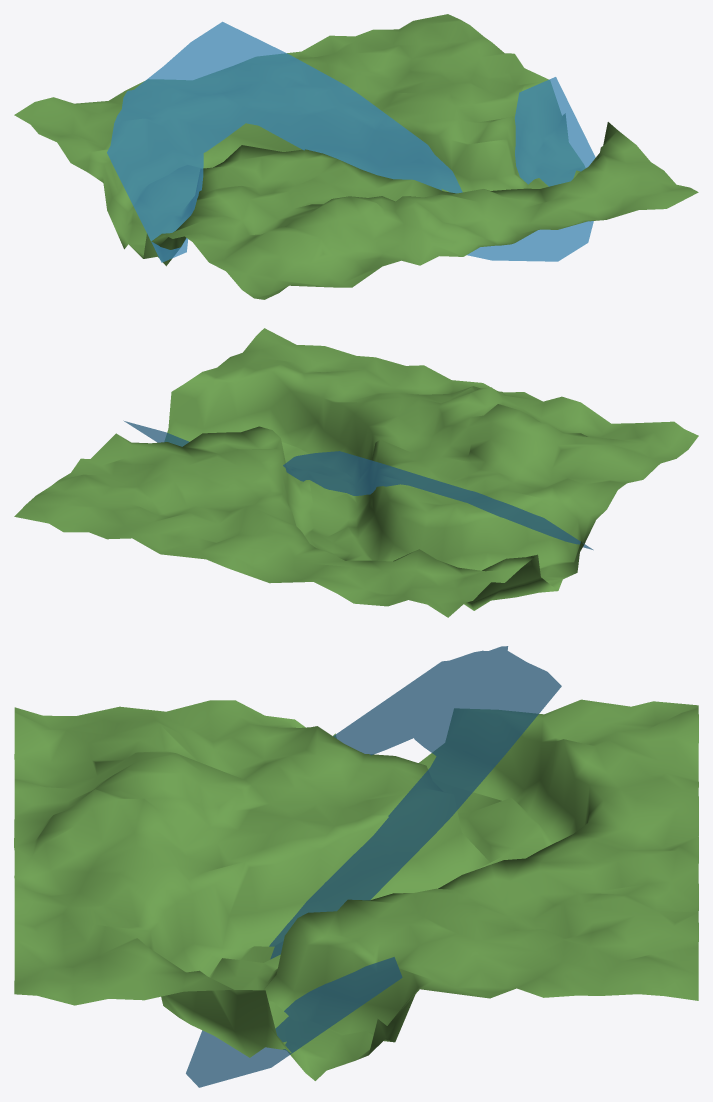
File: zone_one.fbx
3 renders of one model, top to bottom at view 1: azimuth 30°, elevation 25°; view 2: azimuth 150°, elevation 25°; view 3: azimuth 270°, elevation 25°, orthographic. The views are drawn at different scales.
Visible parts, largest first — view 1: Object, RiverWater; view 2: Object, RiverWater; view 3: Object, RiverWater.
Boxes of the visible parts, <box> form: Object: <box>14,14,698,299</box>; RiverWater: <box>107,21,595,262</box>; Object: <box>14,328,698,617</box>; RiverWater: <box>123,420,593,550</box>; Object: <box>14,699,698,1080</box>; RiverWater: <box>186,646,561,1087</box>.
Bounding box in the file's own units: 50292 × 20629 × 50056.
